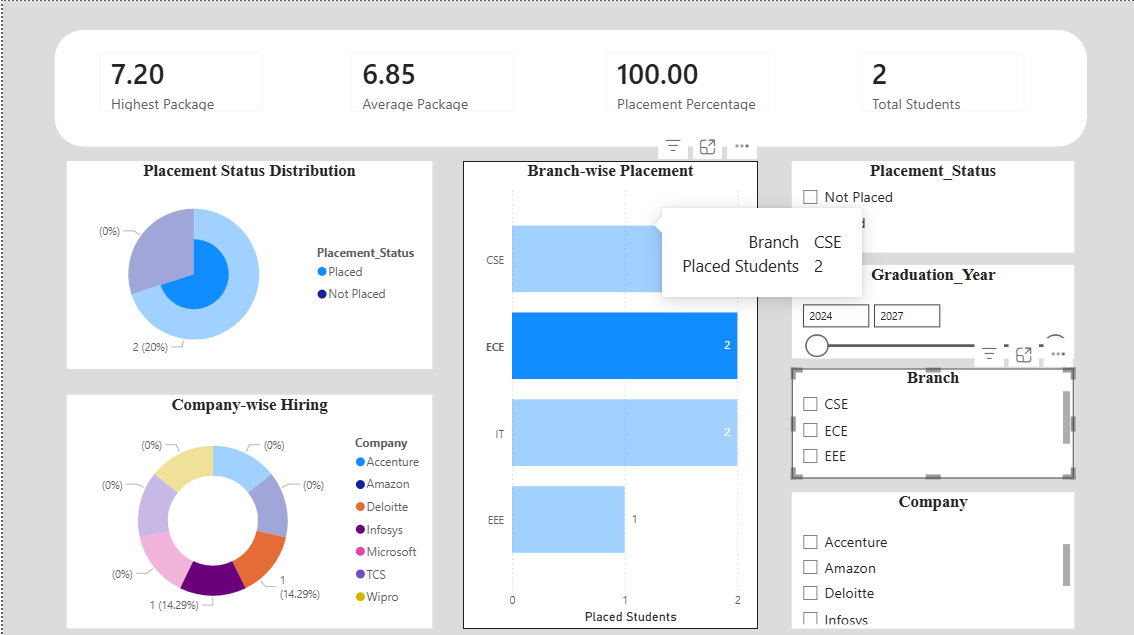

The dashboard page shown, as its layout file describes it:
{"tool":"powerbi","page":{"name":"college-placement-analytics","canvas":[1280,720],"ordinal":0},"visuals":[{"type":"shape","box":[57.6,32.9,1163.6,131.7],"z":0,"group":"g1"},{"type":"group","id":"g1","title":"Group 1","box":[57.6,32.9,1163.6,131.7],"z":0},{"type":"cardVisual","fields":{"Data":["Students.Placement Percentage"]},"box":[662.4,41.7,219.1,101.3],"z":1000,"group":"g1"},{"type":"clusteredBarChart","title":"Branch-wise Placement","fields":{"Y":["Students.Placed Students"],"Category":["Students.Branch"]},"box":[518.7,179.8,332.1,526.9],"z":1000},{"type":"donutChart","title":"Company-wise Hiring","fields":{"Category":["Placements.Company"],"Y":["Students.Placed Students"]},"box":[71.4,443.2,411.7,263.5],"z":1001},{"type":"pieChart","title":"Placement Status Distribution","fields":{"Category":["Placements.Placement_Status"],"Y":["CountNonNull(Placements.Student_ID)"]},"box":[71.4,179.8,411.7,234.6],"z":1002},{"type":"slicer","title":"Graduation_Year","fields":{"Values":["Students.Graduation_Year"]},"box":[889.2,297.8,318.4,105.7],"z":1003},{"type":"slicer","title":"Placement_Status","fields":{"Values":["Placements.Placement_Status"]},"box":[889.2,179.8,318.4,102.9],"z":1005},{"type":"slicer","title":"Branch","fields":{"Values":["Students.Branch"]},"box":[889.2,414.4,318.4,123.5],"z":1006},{"type":"slicer","title":"Company","fields":{"Values":["Placements.Company"]},"box":[889.2,553,318.4,153.7],"z":1007},{"type":"cardVisual","fields":{"Data":["Students.Average Package"]},"box":[373.9,41.7,219.1,101.3],"z":2000,"group":"g1"},{"type":"cardVisual","fields":{"Data":["Students.Highest Package"]},"box":[90.8,41.7,219.1,101.3],"z":3000,"group":"g1"},{"type":"cardVisual","fields":{"Data":["Students.Total Students"]},"box":[949.6,41.7,219.1,101.3],"z":4000,"group":"g1"}]}

Visuals, with their boxes in screenshot pixels (x1, y1, x2, y2), scaled from the page's 1280x720 canvas onto the 1134x635 screenshot:
shape: left=51, top=29, right=1082, bottom=145
"Group 1" group: left=51, top=29, right=1082, bottom=145
cardVisual - Students.Placement Percentage: left=587, top=37, right=781, bottom=126
"Branch-wise Placement" clusteredBarChart: left=460, top=159, right=754, bottom=623
"Company-wise Hiring" donutChart: left=63, top=391, right=428, bottom=623
"Placement Status Distribution" pieChart: left=63, top=159, right=428, bottom=365
"Graduation_Year" slicer: left=788, top=263, right=1070, bottom=356
"Placement_Status" slicer: left=788, top=159, right=1070, bottom=249
"Branch" slicer: left=788, top=365, right=1070, bottom=474
"Company" slicer: left=788, top=488, right=1070, bottom=623
cardVisual - Students.Average Package: left=331, top=37, right=525, bottom=126
cardVisual - Students.Highest Package: left=80, top=37, right=275, bottom=126
cardVisual - Students.Total Students: left=841, top=37, right=1035, bottom=126
